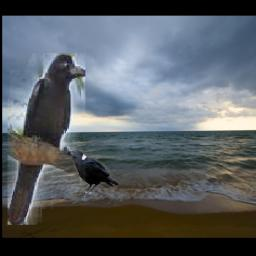Crow: (8, 53, 85, 225), (67, 149, 120, 196)
